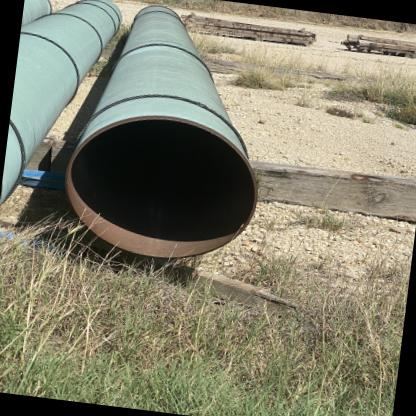clean: (136, 107, 180, 142)
